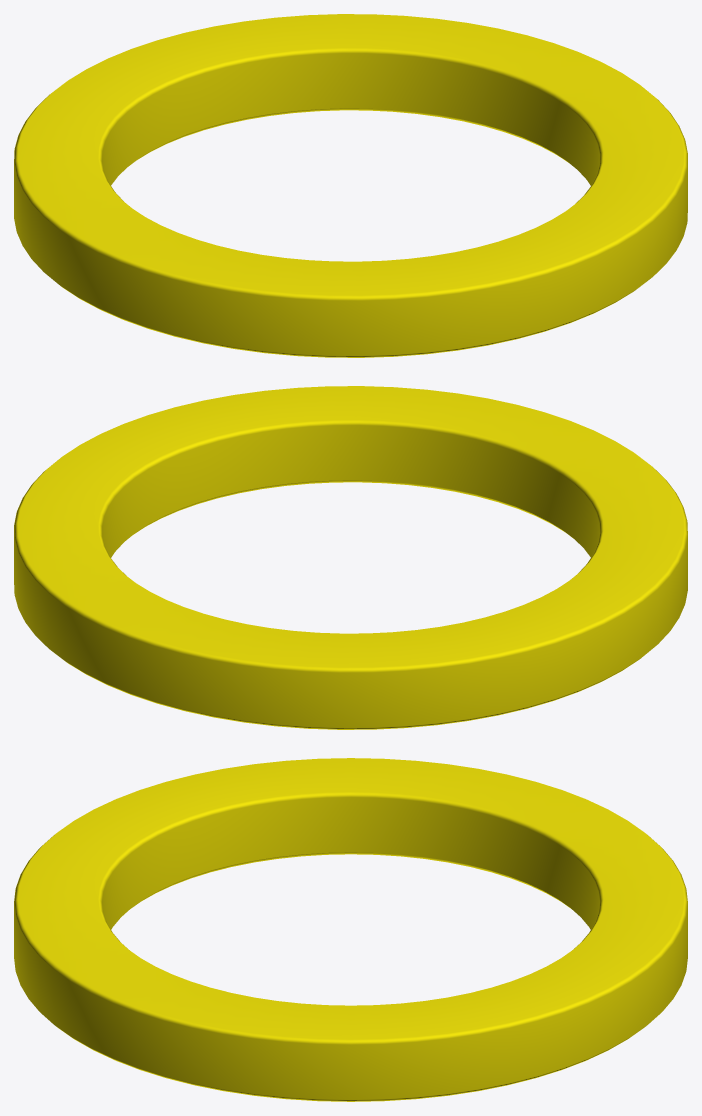
The picture shows the model from 3 angles, top to bottom: view 1: azimuth 30°, elevation 25°; view 2: azimuth 150°, elevation 25°; view 3: azimuth 270°, elevation 25°; orthographic projection.
Parts seen in each view (by area): view 1: seal_body; view 2: seal_body; view 3: seal_body.
Part boxes in pixels (left/top/right/bottom): seal_body: left=14, top=14, right=687, bottom=357; seal_body: left=14, top=386, right=687, bottom=729; seal_body: left=14, top=758, right=687, bottom=1101.
Bounding box in the file's own units: 0.0258 × 0.00264 × 0.0258.
